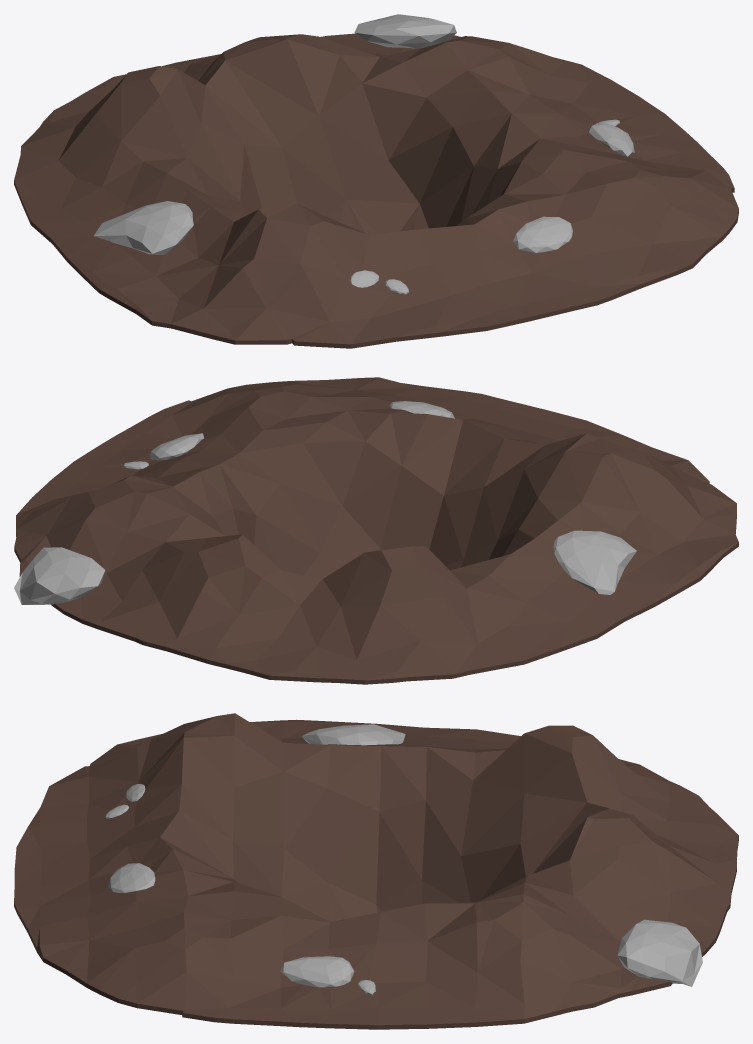
The model's file is Pit.fbx.
3 views of the same model, one above another, from view 1: azimuth 30°, elevation 25°; view 2: azimuth 150°, elevation 25°; view 3: azimuth 270°, elevation 25° (orthographic). The views are drawn at different scales.
Parts seen in each view (by area): view 1: Pit 1; view 2: Pit 1; view 3: Pit 1.
Part boxes in pixels (x1,y1,x2,y2): Pit 1: (14, 14, 738, 348); Pit 1: (14, 377, 738, 684); Pit 1: (14, 713, 738, 1029).
Size of the model in its own units: 14.01 by 3.74 by 14.08.
